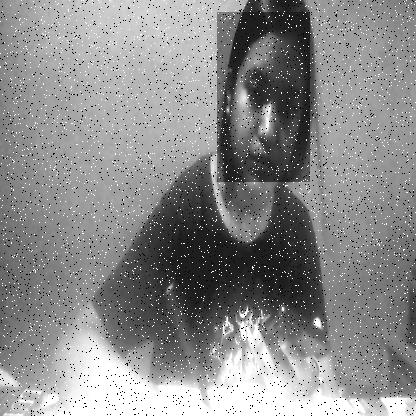Normal: (217, 13, 310, 182)
